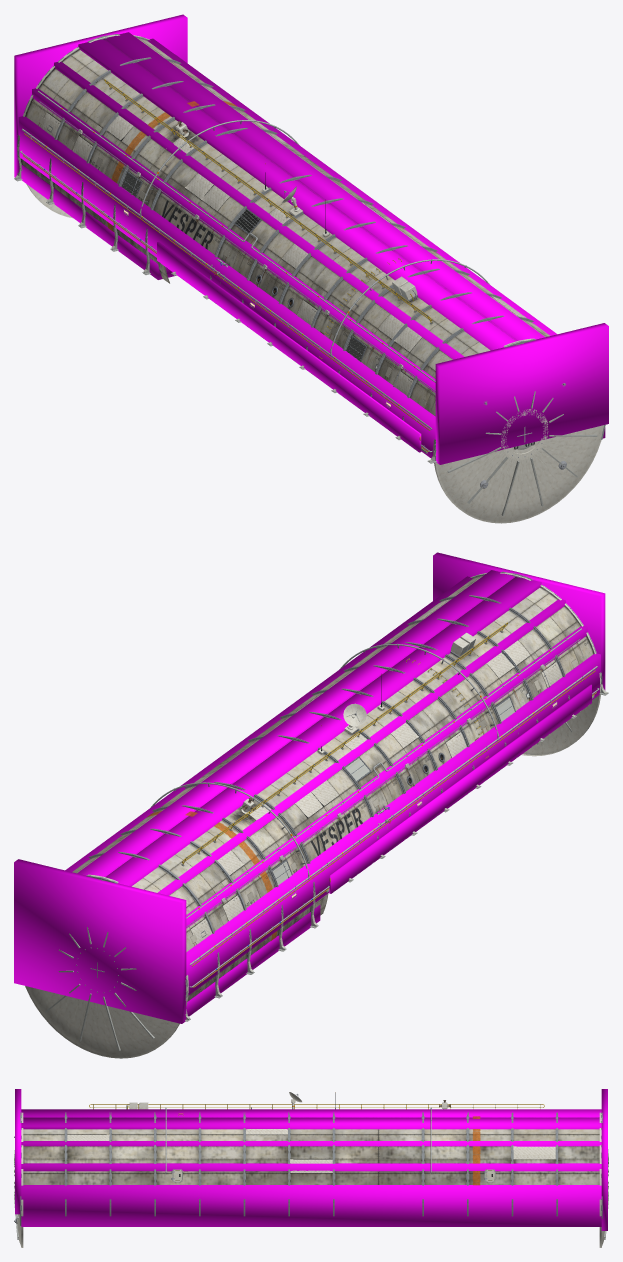
The model's file is hull_wall.glb.
3 renders of one model, top to bottom at view 1: azimuth 30°, elevation 25°; view 2: azimuth 150°, elevation 25°; view 3: azimuth 270°, elevation 25°, orthographic. The views are drawn at different scales.
Parts seen in each view (by area): view 1: col_wall, hull_wall; view 2: col_wall, hull_wall; view 3: col_wall, hull_wall.
Part boxes in pixels (x1,y1,x2,y2): col_wall: (14, 14, 608, 464); hull_wall: (14, 34, 605, 523); col_wall: (14, 552, 605, 1023); hull_wall: (25, 571, 608, 1058); col_wall: (15, 1089, 607, 1230); hull_wall: (14, 1092, 608, 1247).
Size of the model in its own units: 10.52 by 11.78 by 43.97.
10 materials, 7 textured.
